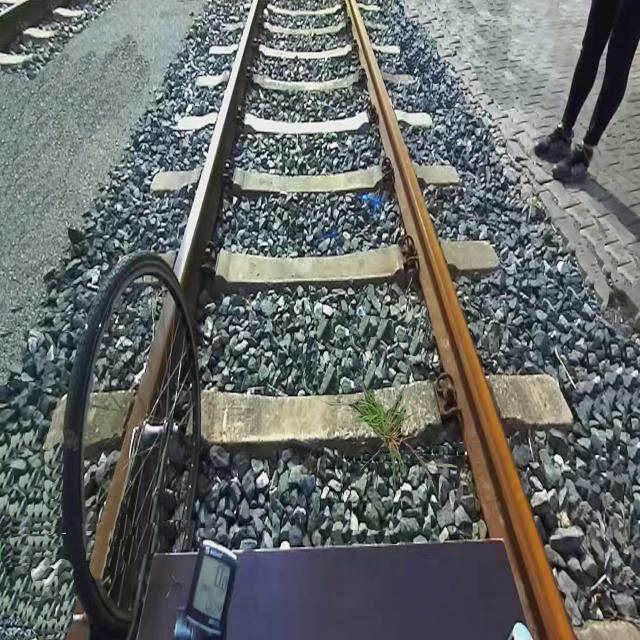Plant: (314, 379, 458, 498)
